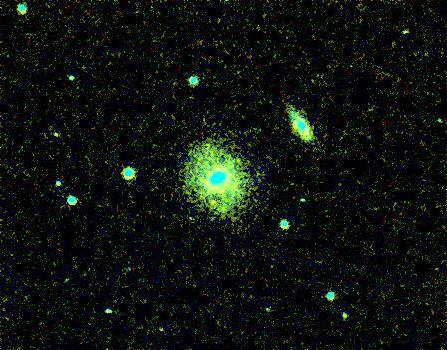star: (198, 186, 228, 216)
